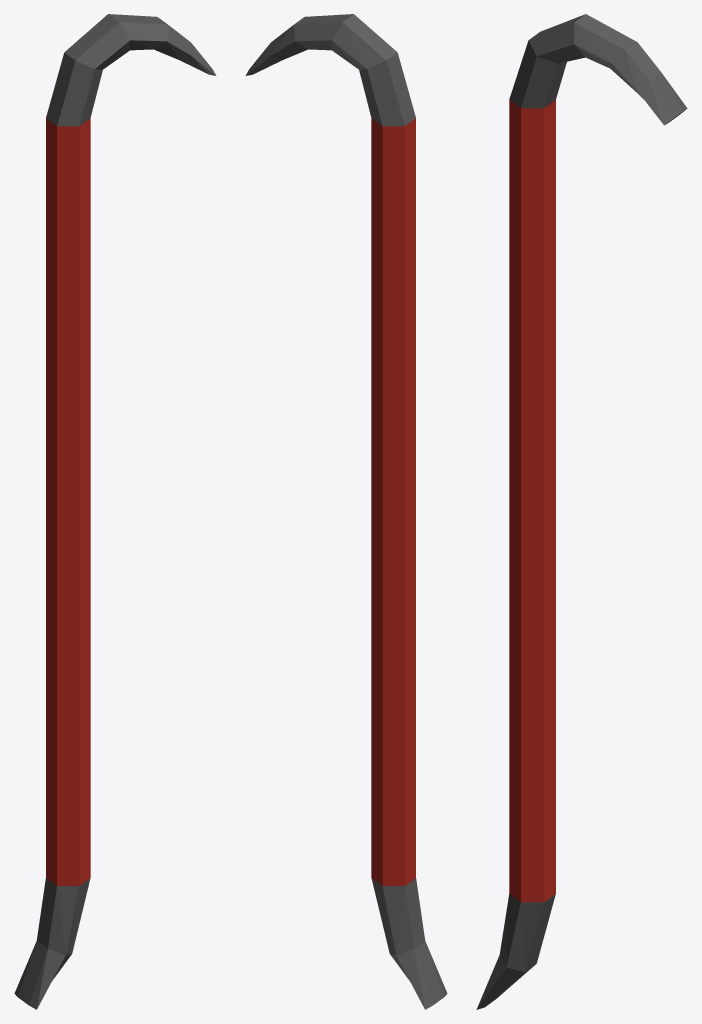
Rendered from Crowbar_mat.fbx.
3 views of the same model, side by side, from view 1: azimuth 30°, elevation 25°; view 2: azimuth 150°, elevation 25°; view 3: azimuth 330°, elevation 25° (orthographic). The views are drawn at different scales.
Visible parts, largest first — view 1: Crowbar_mat; view 2: Crowbar_mat; view 3: Crowbar_mat.
Boxes of the visible parts, box(x1,y1,x2,y2) form: Crowbar_mat: box(14, 14, 216, 1009); Crowbar_mat: box(245, 14, 447, 1009); Crowbar_mat: box(476, 14, 687, 1009).
Bounding box in the file's own units: 10.66 × 53.31 × 2.24.
